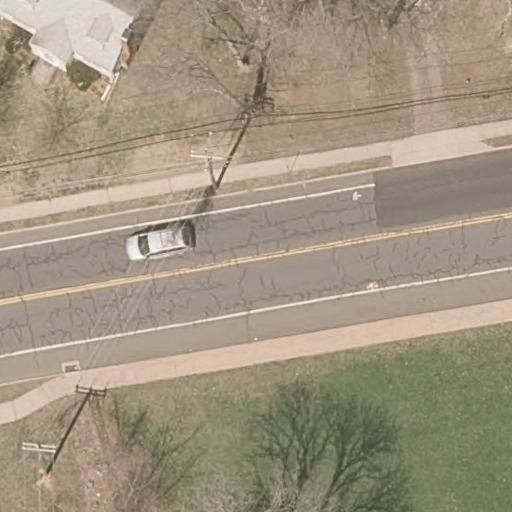DT: (190, 147, 232, 193), (22, 440, 57, 473)
